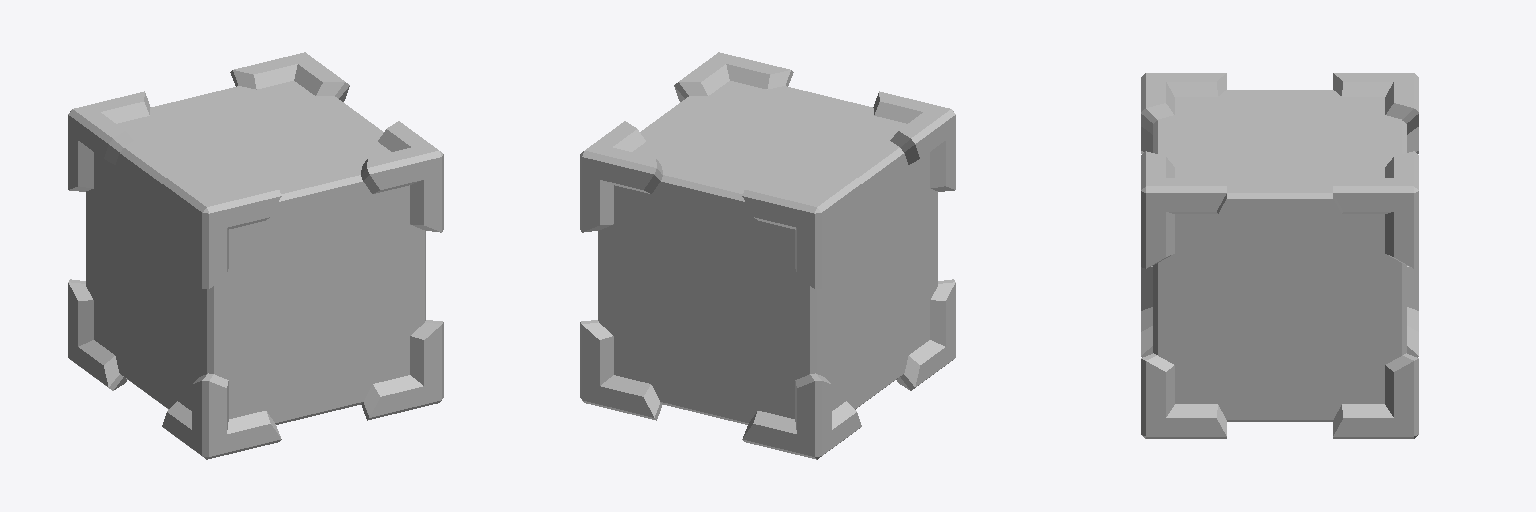
Rendered from Crate_Medium.obj.
The picture shows the model from 3 angles: view 1: azimuth 30°, elevation 25°; view 2: azimuth 150°, elevation 25°; view 3: azimuth 270°, elevation 25°; orthographic projection.
Parts seen in each view (by area): view 1: Crate_Medium.obj; view 2: Crate_Medium.obj; view 3: Crate_Medium.obj.
Part boxes in pixels (x1,y1,x2,y2): Crate_Medium.obj: (68, 52, 443, 459); Crate_Medium.obj: (580, 52, 955, 459); Crate_Medium.obj: (1141, 73, 1418, 438).
Size of the model in its own units: 1.1 by 1.1 by 1.1.